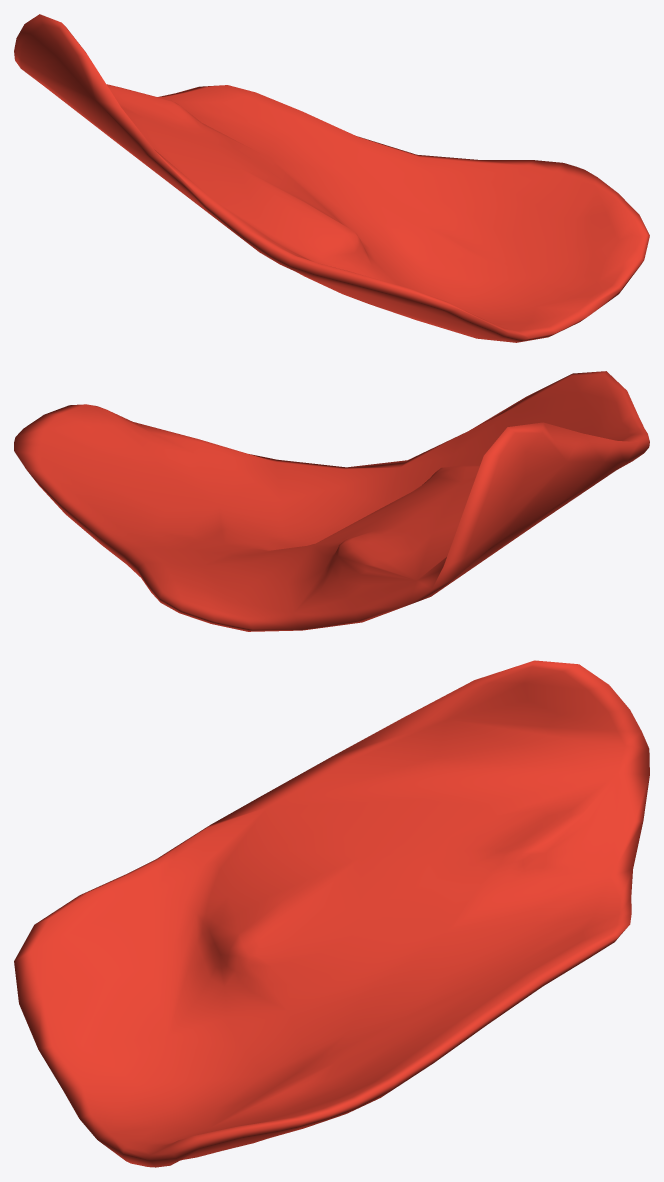
The model's file is Flexor_hallucis_brevis_medial_cuneiform_001.glb.
3 views of the same model, one above another, from view 1: azimuth 30°, elevation 25°; view 2: azimuth 150°, elevation 25°; view 3: azimuth 270°, elevation 25° (orthographic). The views are drawn at different scales.
Visible parts, largest first — view 1: Lateral_head_of_flexor_hallucis_brevis_on_medial_cuneiform..; view 2: Lateral_head_of_flexor_hallucis_brevis_on_medial_cuneiform..; view 3: Lateral_head_of_flexor_hallucis_brevis_on_medial_cuneiform...
Part boxes in pixels (x1,y1,x2,y2): Lateral_head_of_flexor_hallucis_brevis_on_medial_cuneiform..: (14,14,649,342); Lateral_head_of_flexor_hallucis_brevis_on_medial_cuneiform..: (14,371,649,631); Lateral_head_of_flexor_hallucis_brevis_on_medial_cuneiform..: (14,660,649,1167).
Size of the model in its own units: 0.016 by 0.00888 by 0.0168.
